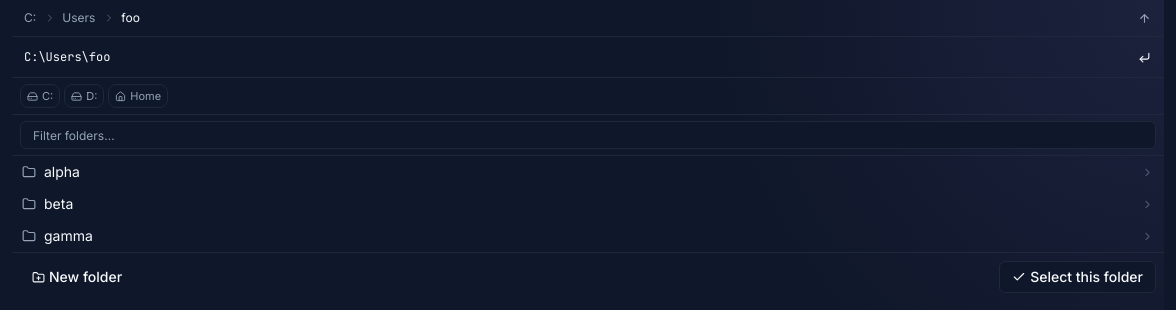
Test case: PathPickerBrowser › filters the current listing client-side
Check: the button with test id "path-picker-row-alpha" is shown, box [12,156,1164,188]
Type "be" into the field with test id "path-picker-filter" at (588, 135), box [20,121,1156,149]
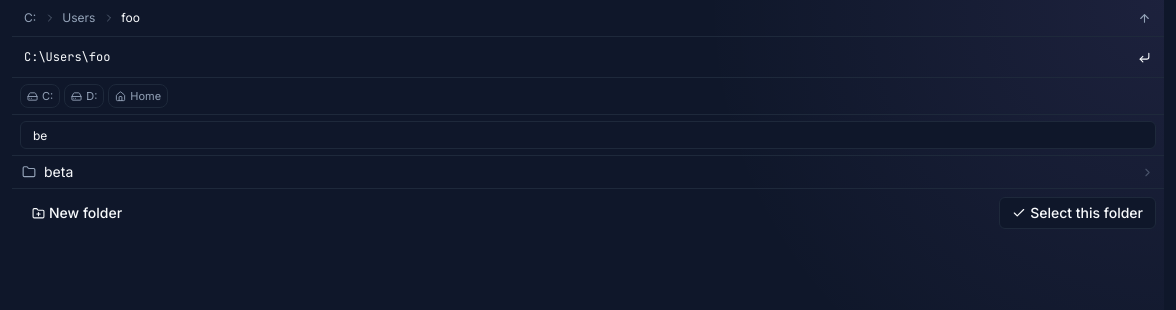
Check: the button with test id "path-picker-row-beta" is shown, box [12,156,1164,188]
Check: the button with test id "path-picker-row-alpha" is gone
Check: the button with test id "path-picker-row-gamma" is gone
